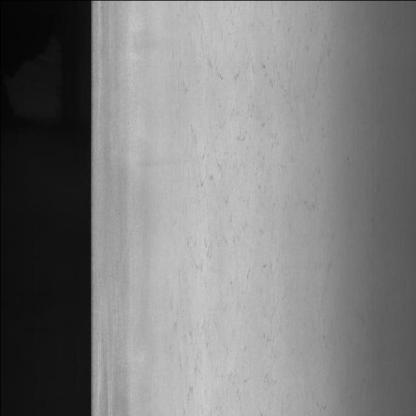silk_spot: (175, 11, 334, 410)
